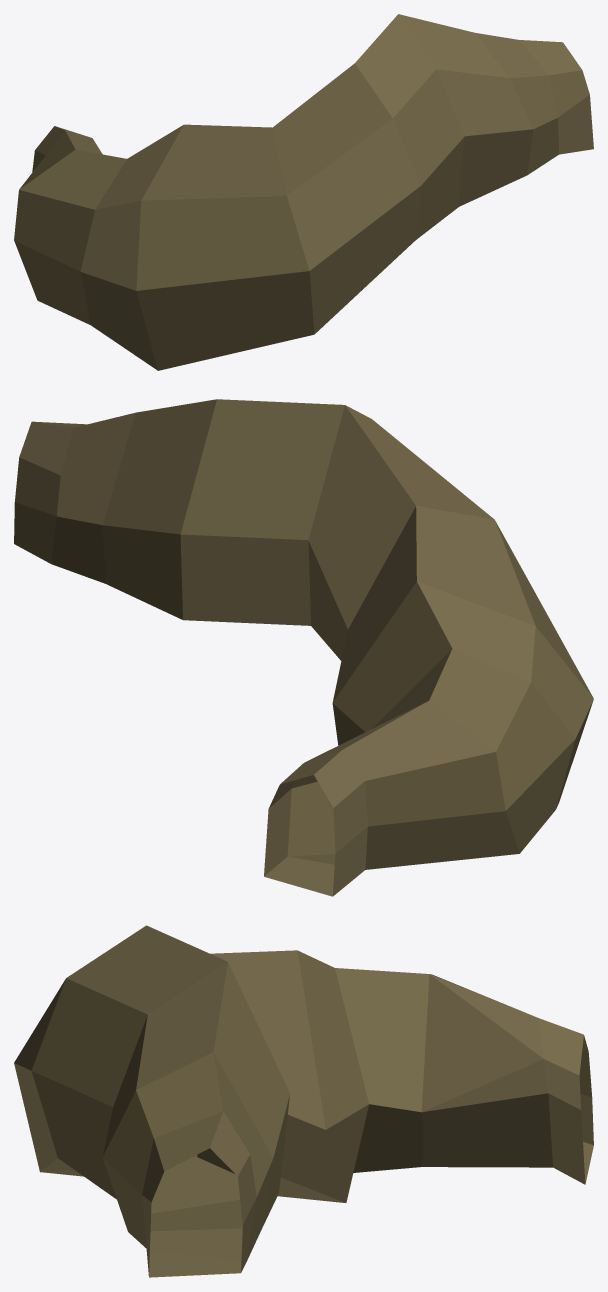
Rendered from Tunnel-B02.fbx.
3 renders of one model, top to bottom at view 1: azimuth 30°, elevation 25°; view 2: azimuth 150°, elevation 25°; view 3: azimuth 270°, elevation 25°, orthographic. The views are drawn at different scales.
Visible parts, largest first — view 1: Tunnel-B02; view 2: Tunnel-B02; view 3: Tunnel-B02.
Boxes of the visible parts, box(x1,y1,x2,y2) form: Tunnel-B02: box(14, 14, 593, 370); Tunnel-B02: box(14, 399, 593, 896); Tunnel-B02: box(14, 925, 593, 1277).
Bounding box in the file's own units: 1061 × 1350 × 758.
